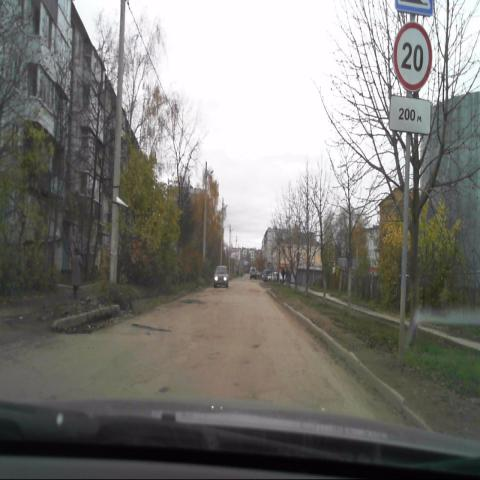8_1_1: (389, 98, 431, 135)
